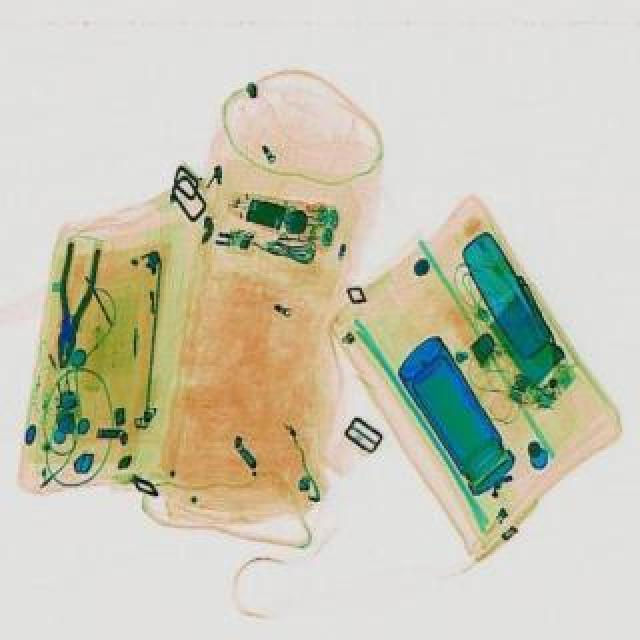wrench: (42, 238, 102, 368)
